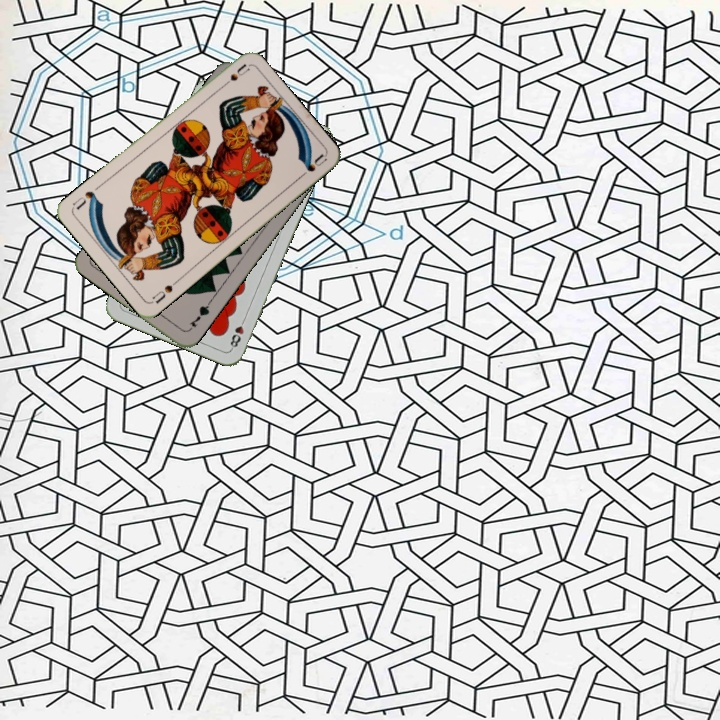G7: (184, 298, 213, 334)
H8: (226, 313, 248, 351)
SU: (216, 60, 252, 92), (148, 275, 182, 306)
